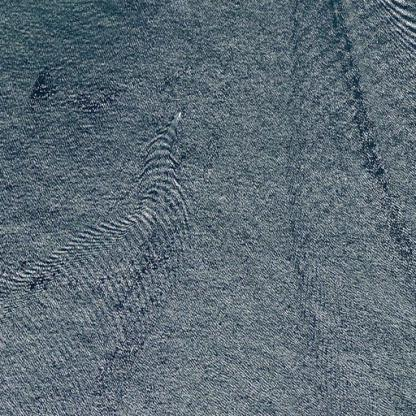ship: (6, 110, 16, 122)
